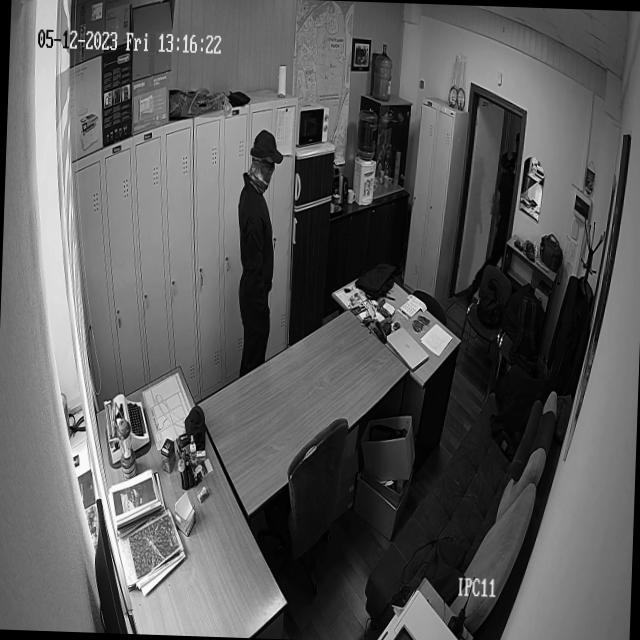gun: (513, 236, 523, 258)
person: (232, 128, 278, 378), (472, 159, 517, 296)
